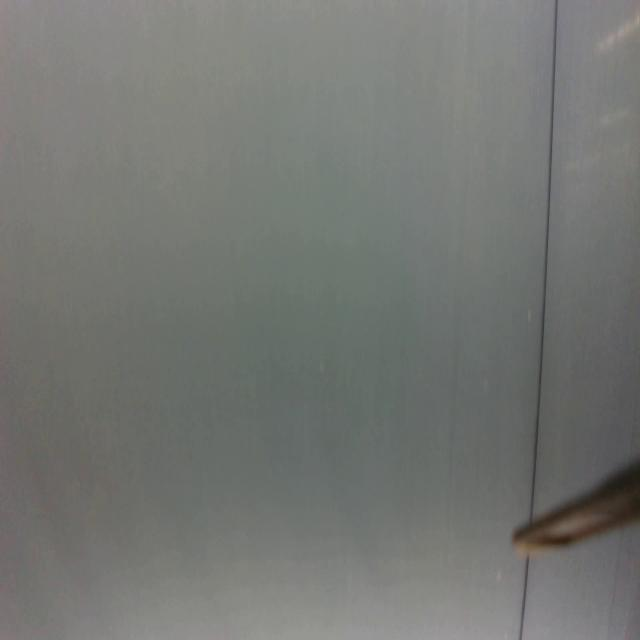crease: (531, 0, 559, 504), (518, 558, 530, 640)
hole: (495, 564, 504, 586), (526, 307, 534, 327)
